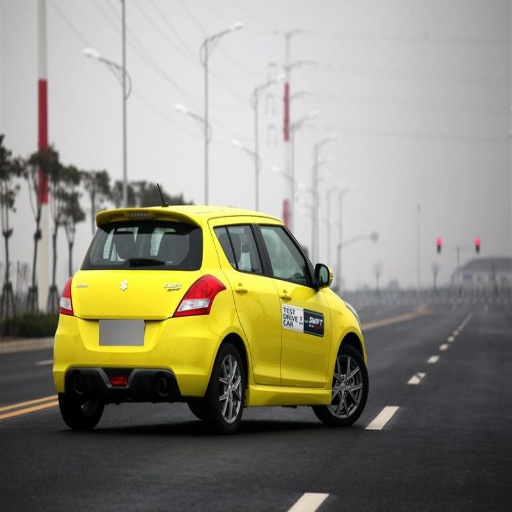back_bumper: (53, 314, 219, 396)
back_right_door: (223, 220, 282, 386)
trunk: (73, 272, 188, 343)
